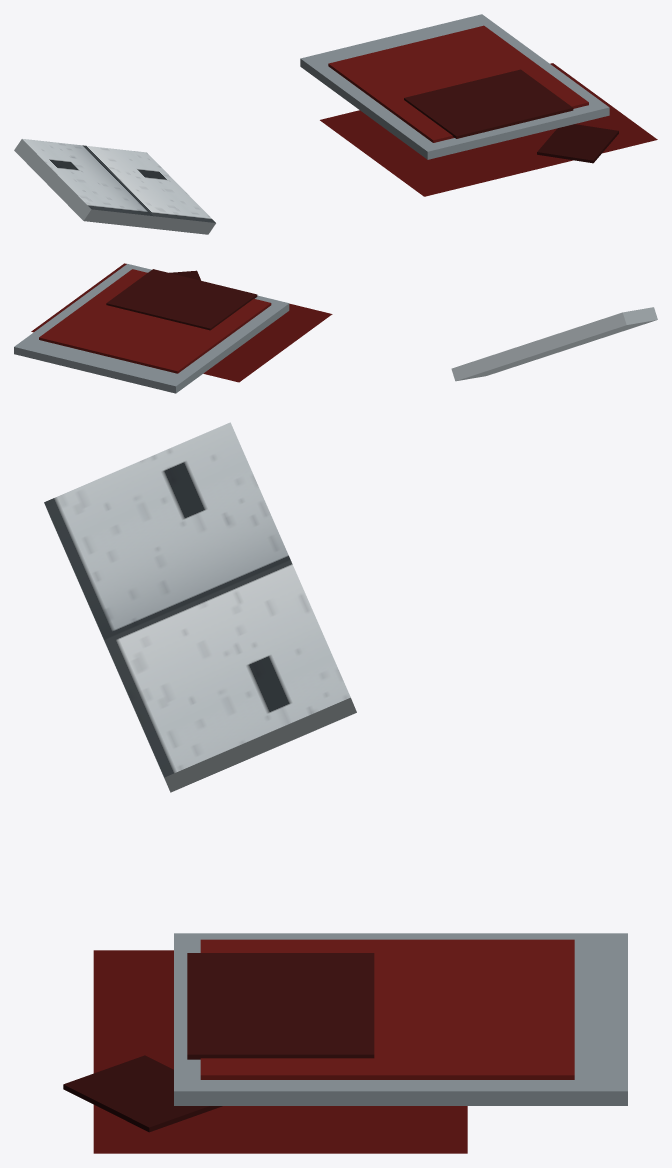
The model's file is necrotorio_arrombada.glb.
The picture shows the model from 3 angles, top to bottom: view 1: azimuth 30°, elevation 25°; view 2: azimuth 150°, elevation 25°; view 3: azimuth 270°, elevation 25°; orthographic projection. The views are drawn at different scales.
Bounding box in the file's own units: 4.65 × 0.921 × 2.19.
Materials: 7 (1 with a texture image).
